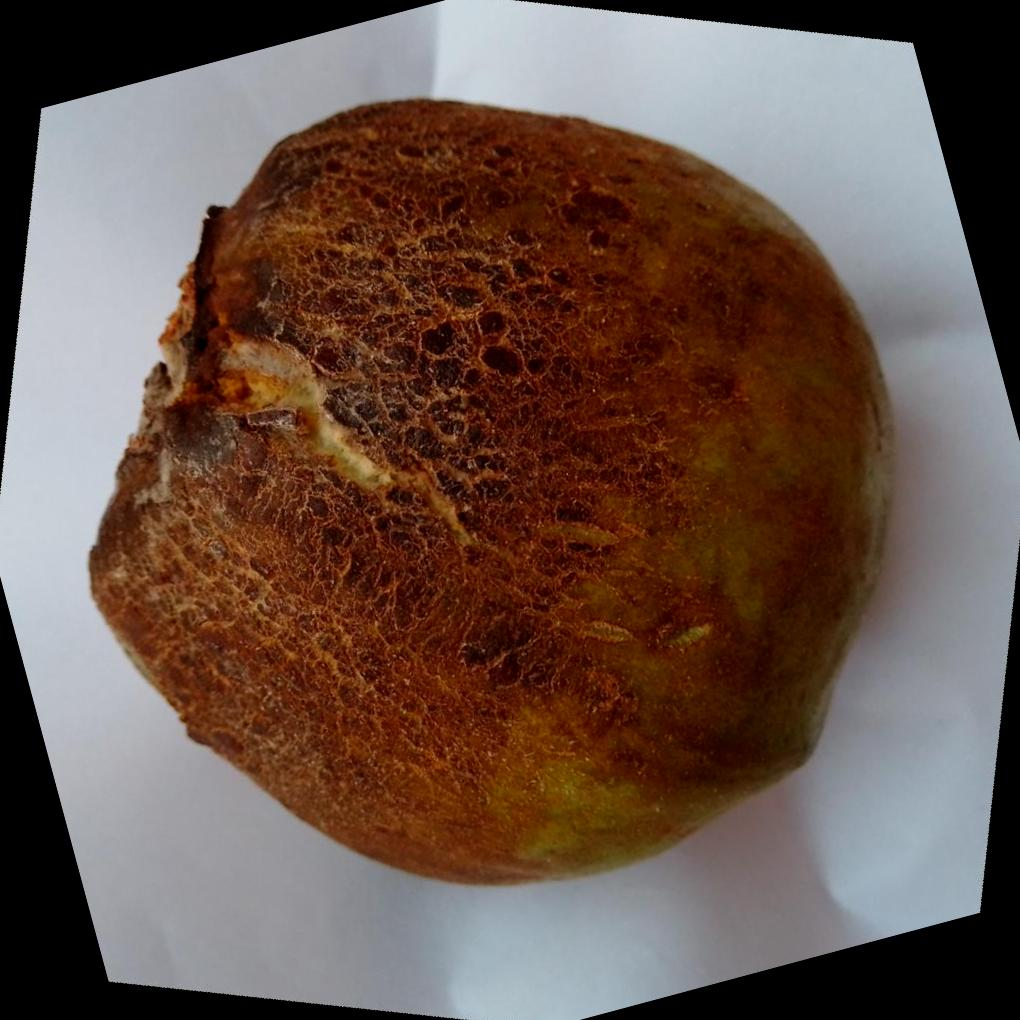FreshOrange: (87, 98, 896, 891)
